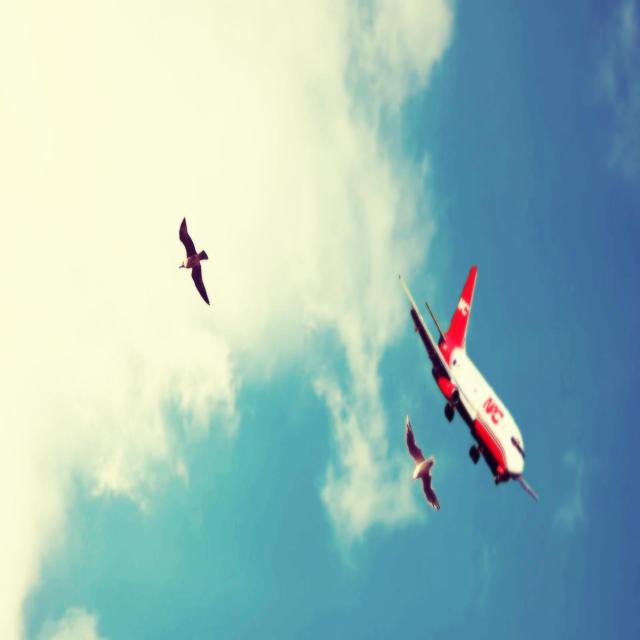airplane: (398, 264, 538, 501)
